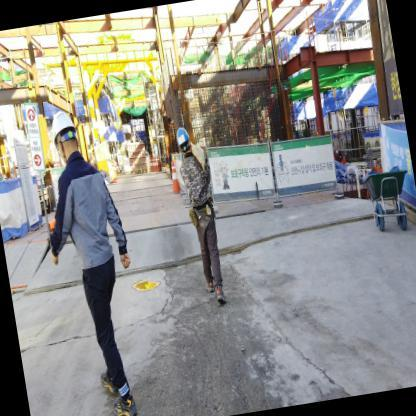safety-shoe: (108, 392, 145, 415), (98, 370, 118, 396), (213, 283, 228, 306), (204, 276, 217, 297)
